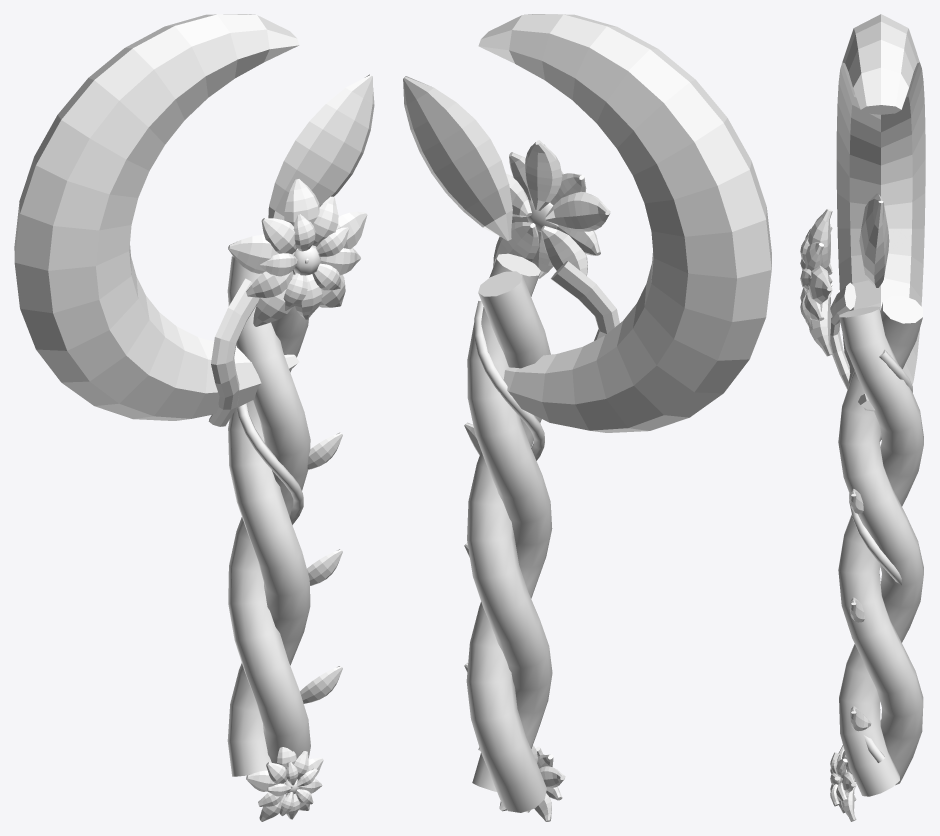
Rendered from axe.obj.
The picture shows the model from 3 angles, left to right: view 1: azimuth 30°, elevation 25°; view 2: azimuth 150°, elevation 25°; view 3: azimuth 270°, elevation 25°; orthographic projection. The views are drawn at different scales.
Visible parts, largest first — view 1: head, handle, ornaments; view 2: head, handle, ornaments; view 3: handle, head, ornaments.
Part boxes in pixels (x1=…): head: x1=14, y1=14, x2=374, y2=420; handle: x1=227, y1=256, x2=342, y2=821; ornaments: x1=208, y1=178, x2=367, y2=426; head: x1=403, y1=14, x2=771, y2=432; handle: x1=464, y1=253, x2=565, y2=821; ornaments: x1=493, y1=140, x2=619, y2=340; handle: x1=830, y1=295, x2=923, y2=821; head: x1=836, y1=14, x2=925, y2=411; ornaments: x1=800, y1=208, x2=856, y2=389.
Size of the model in its own units: 0.4691 by 1 by 0.1525.
